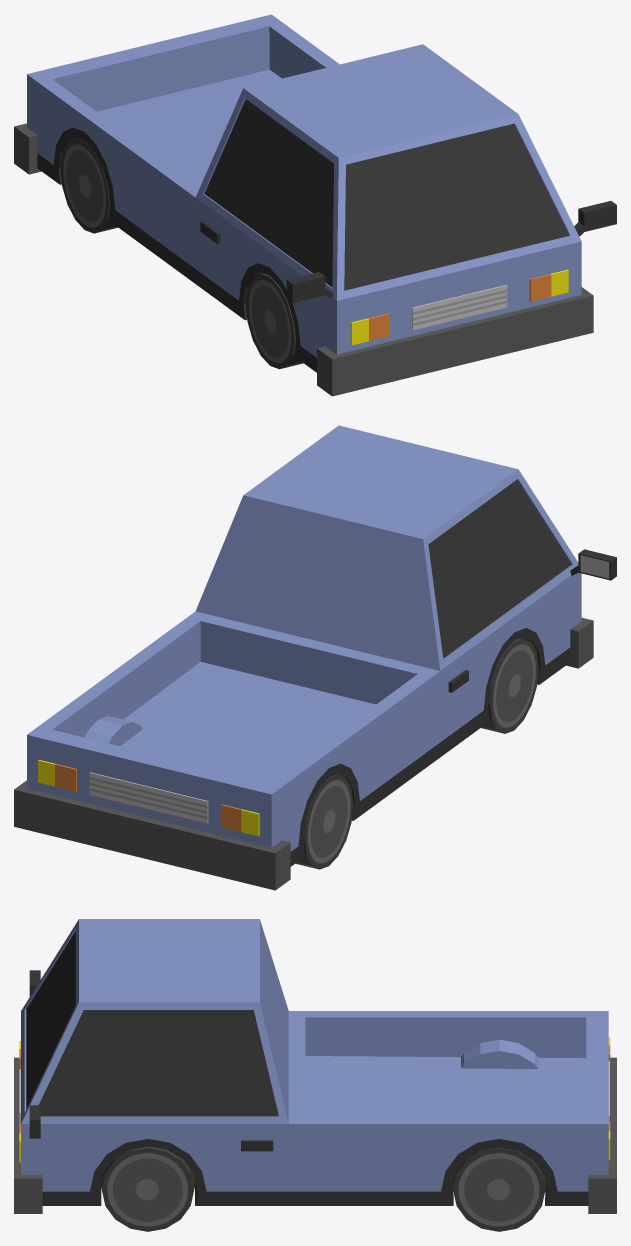
File: miniTruck01_color01.fbx
3 renders of one model, top to bottom at view 1: azimuth 30°, elevation 25°; view 2: azimuth 150°, elevation 25°; view 3: azimuth 270°, elevation 25°, orthographic. The views are drawn at different scales.
Parts seen in each view (by area): view 1: Cube.370, Cube.201, Cube.385; view 2: Cube.370, Cube.201, Cube.385; view 3: Cube.370, Cube.380, Cube.379.
Part boxes in pixels (x1=…): Cube.370: x1=14, y1=14, x2=616, y2=396; Cube.201: x1=245, y1=273, x2=303, y2=369; Cube.385: x1=60, y1=138, x2=117, y2=233; Cube.370: x1=14, y1=425, x2=616, y2=890; Cube.201: x1=481, y1=638, x2=538, y2=733; Cube.385: x1=295, y1=774, x2=353, y2=869; Cube.370: x1=14, y1=919, x2=616, y2=1213; Cube.380: x1=101, y1=1146, x2=194, y2=1231; Cube.379: x1=453, y1=1147, x2=545, y2=1231.
Bounding box in the file's own units: 280 × 187 × 476.
